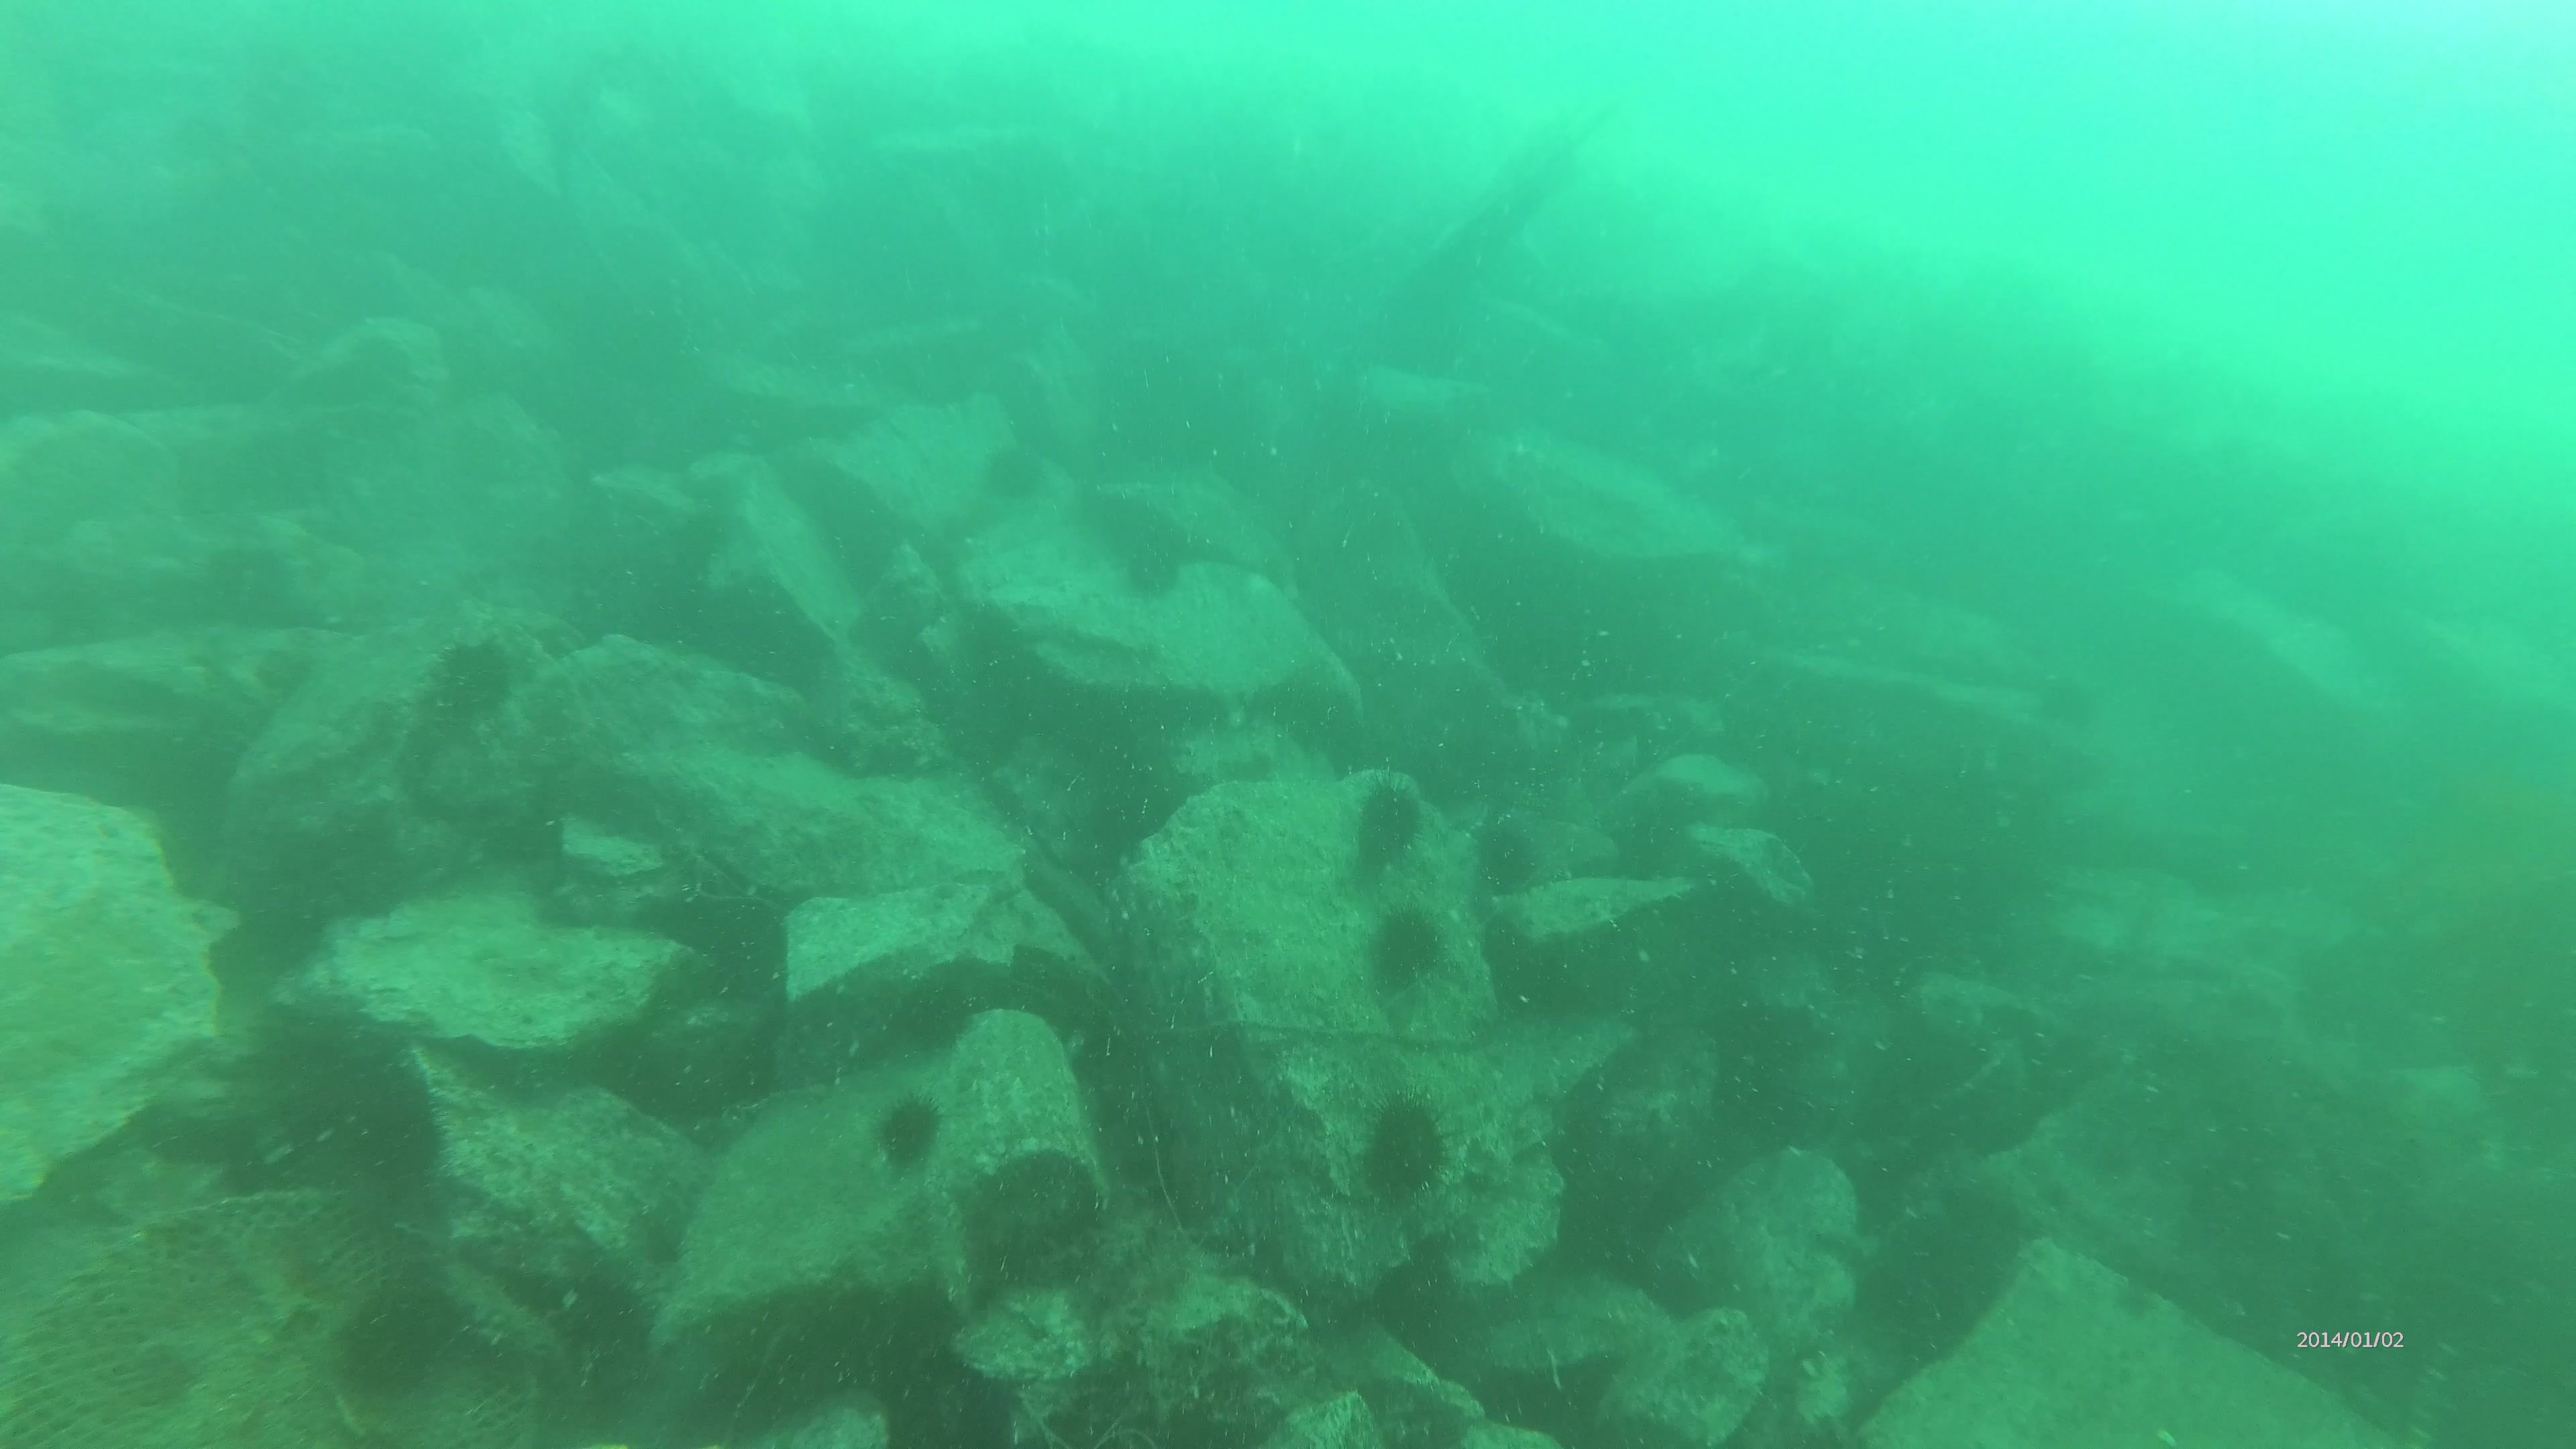echinus: (336, 1284, 474, 1414), (338, 1070, 453, 1194), (1369, 1085, 1451, 1201), (1355, 775, 1433, 870), (1366, 901, 1445, 991), (865, 1095, 947, 1171), (433, 642, 510, 711), (1472, 814, 1534, 892), (991, 441, 1054, 502), (1127, 538, 1185, 591)
